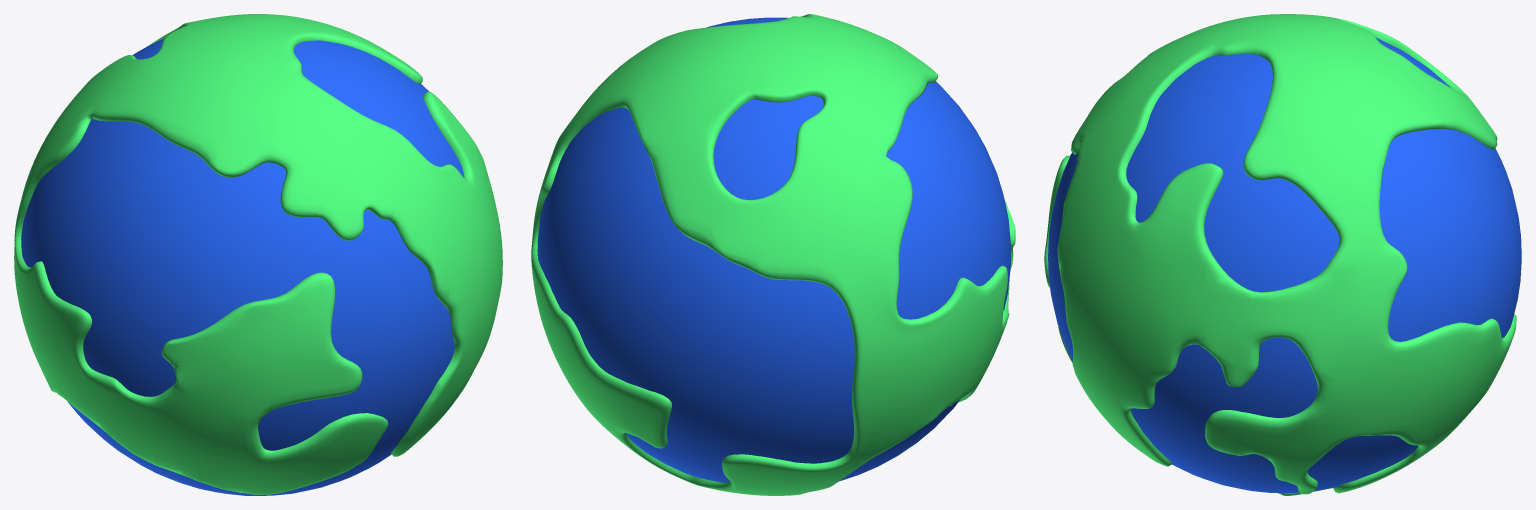
File: earth.glb
3 views of the same model, side by side, from view 1: azimuth 30°, elevation 25°; view 2: azimuth 150°, elevation 25°; view 3: azimuth 270°, elevation 25° (orthographic).
Parts seen in each view (by area): view 1: Roundcube.011, Roundcube.010; view 2: Roundcube.011, Roundcube.010; view 3: Roundcube.011, Roundcube.010.
Boxes of the visible parts, left/top/right/bottom form: Roundcube.011: left=14, top=14, right=502, bottom=494; Roundcube.010: left=21, top=38, right=464, bottom=495; Roundcube.011: left=531, top=14, right=1015, bottom=495; Roundcube.010: left=537, top=17, right=1010, bottom=482; Roundcube.011: left=1044, top=14, right=1516, bottom=495; Roundcube.010: left=1048, top=37, right=1521, bottom=492.
Size of the model in its own units: 0.9855 by 0.9804 by 0.9698.
